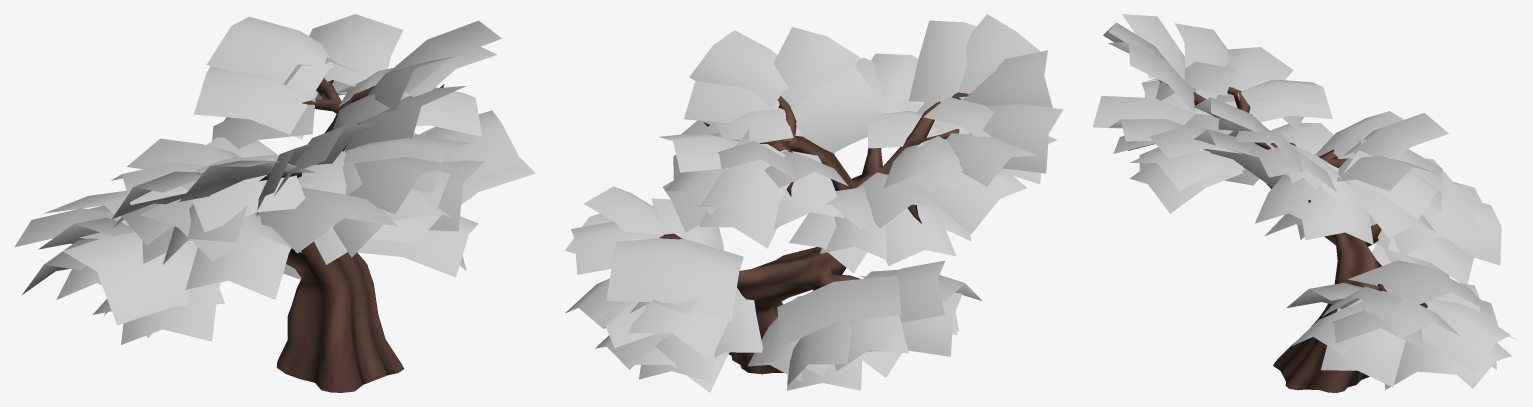
The model's file is Tree.FBX.
3 renders of one model, left to right at view 1: azimuth 30°, elevation 25°; view 2: azimuth 150°, elevation 25°; view 3: azimuth 270°, elevation 25°, orthographic. The views are drawn at different scales.
Visible parts, largest first — view 1: Plane299, Cylinder032; view 2: Plane299, Cylinder032; view 3: Plane299, Cylinder032.
Part boxes in pixels (x1,y1,x2,y2): Plane299: [14, 14, 535, 344]; Cylinder032: [190, 77, 444, 392]; Plane299: [565, 14, 1063, 392]; Cylinder032: [659, 92, 970, 374]; Plane299: [1092, 14, 1516, 389]; Cylinder032: [1193, 87, 1427, 392].
Bounding box in the file's own units: 1369 × 962 × 1288.
